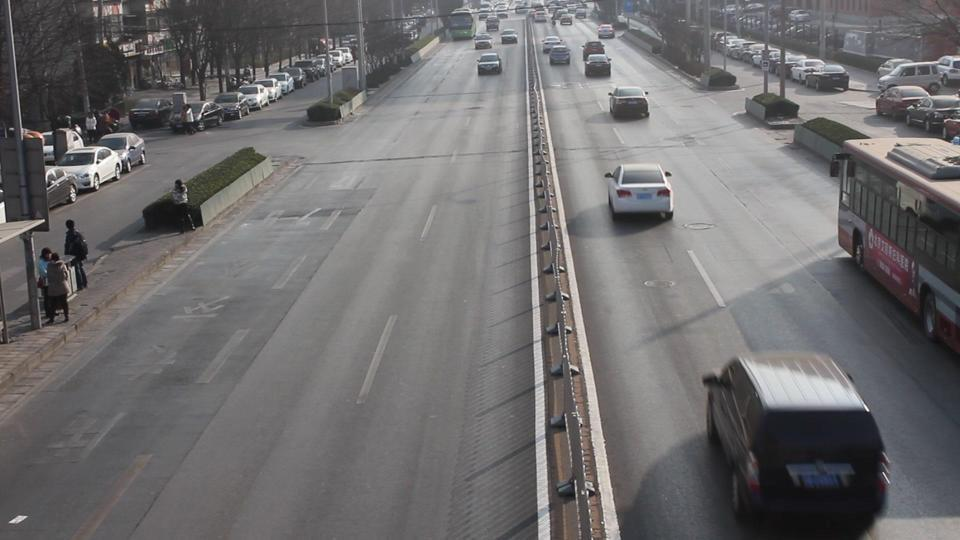car: (703, 351, 891, 536), (604, 161, 675, 220), (53, 146, 122, 193), (876, 61, 941, 94), (97, 132, 147, 172), (875, 84, 932, 119), (904, 95, 960, 130), (170, 100, 223, 133), (128, 96, 176, 130), (800, 61, 850, 92), (608, 86, 650, 120), (46, 169, 77, 210), (213, 92, 248, 120), (583, 46, 611, 78), (237, 84, 268, 112), (544, 37, 571, 64), (582, 40, 608, 65), (255, 79, 281, 103), (271, 72, 295, 96), (476, 53, 502, 75), (942, 114, 960, 143), (287, 68, 309, 89), (329, 50, 353, 67), (541, 34, 565, 51), (473, 35, 493, 50), (499, 29, 518, 44), (597, 23, 615, 38), (557, 12, 575, 25)
